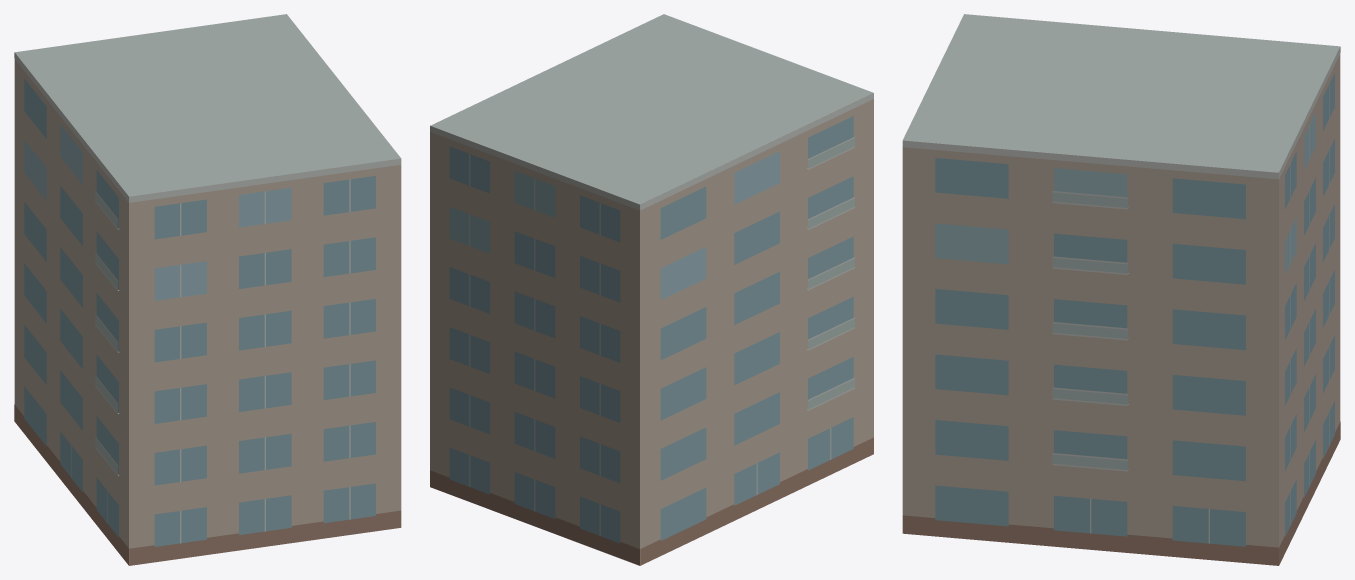
Rendered from survey-upis-32943978.glb.
3 renders of one model, left to right at view 1: azimuth 30°, elevation 25°; view 2: azimuth 150°, elevation 25°; view 3: azimuth 270°, elevation 25°, orthographic. The views are drawn at different scales.
Visible parts, largest first — view 1: survey-upis-32943978.tmp; view 2: survey-upis-32943978.tmp; view 3: survey-upis-32943978.tmp.
Boxes of the visible parts, bbox=[...] form: survey-upis-32943978.tmp: bbox=[14, 14, 401, 565]; survey-upis-32943978.tmp: bbox=[430, 14, 873, 565]; survey-upis-32943978.tmp: bbox=[902, 14, 1340, 565].
Size of the model in its own units: 12.66 by 14.6 by 14.75.
